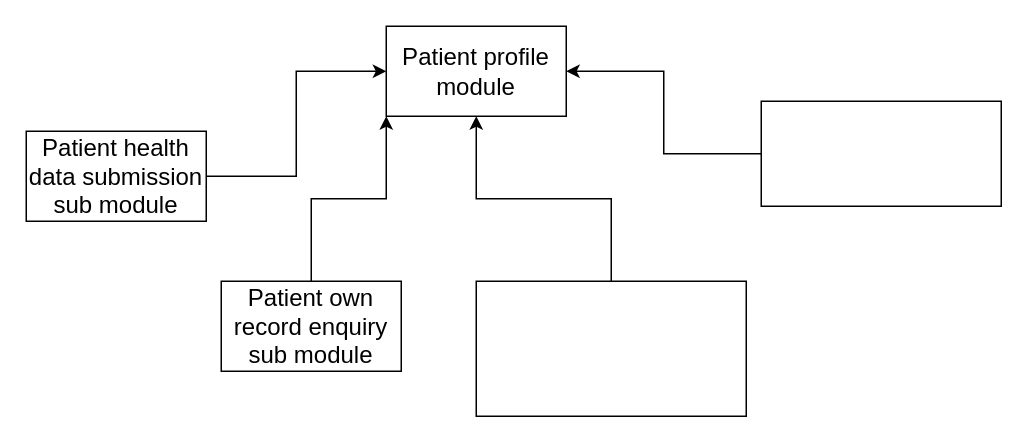
This 1028x443 diagram has some shape labels left out. The centre of each missing label's shape, as x and y in pixels:
Health data questionnaire management sub module: the point at 610,348
Patient cases checking and monitor sub module: the point at 880,153
